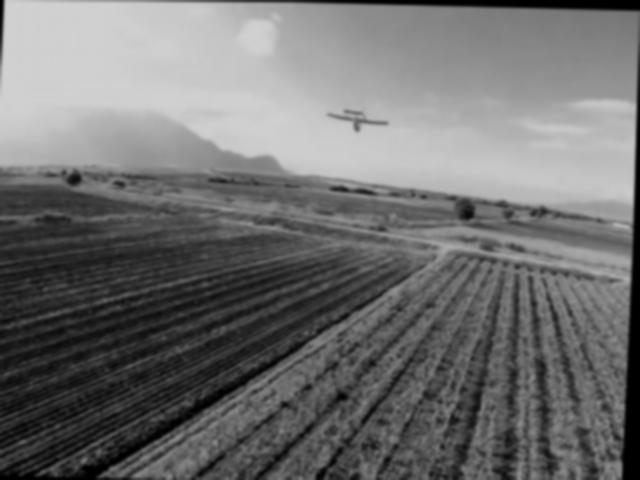hedef: (324, 99, 390, 135)
